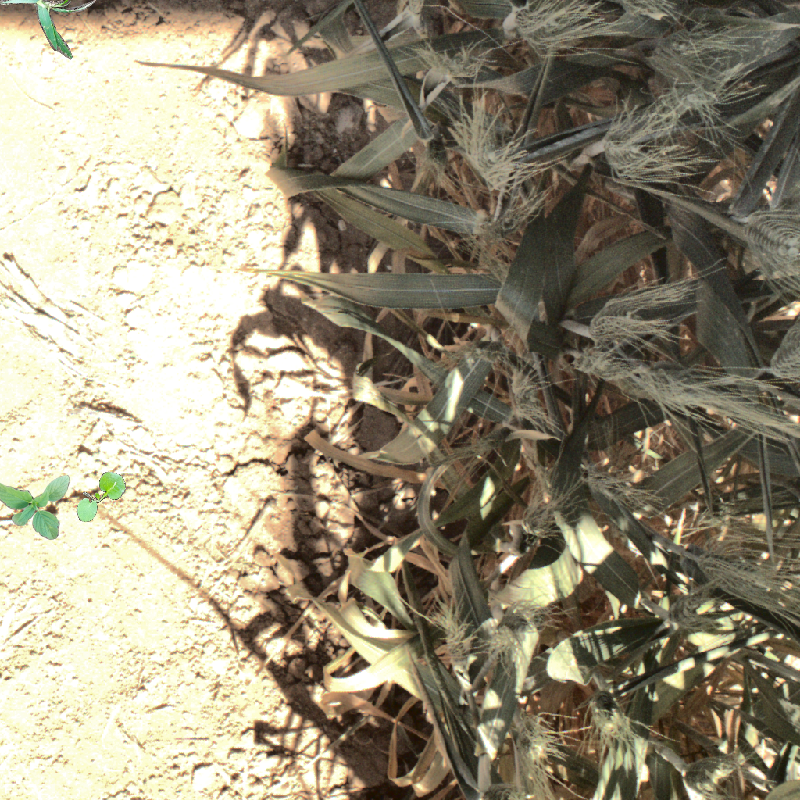spikelet: (597, 78, 713, 157), (659, 9, 795, 75), (571, 349, 710, 410), (585, 277, 699, 332), (697, 549, 796, 602), (739, 204, 799, 273), (585, 701, 659, 750), (766, 321, 799, 383)
weed: (1, 1, 113, 64), (1, 475, 70, 540), (66, 465, 133, 528)
